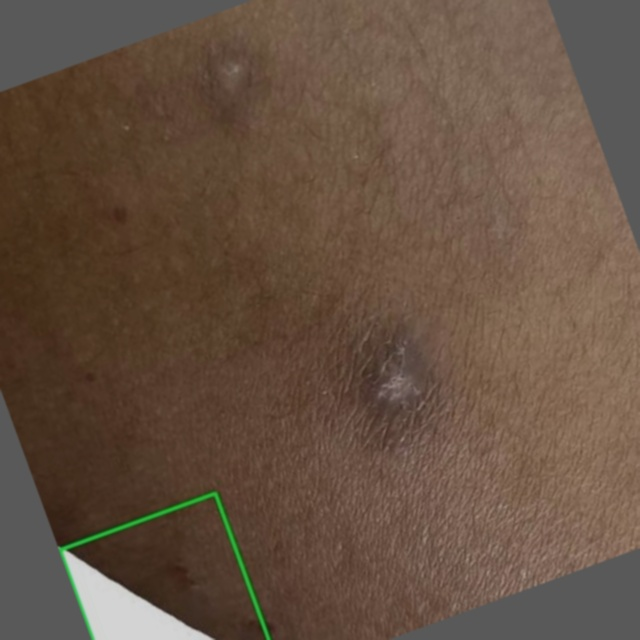Scabies: (59, 493, 268, 639)
